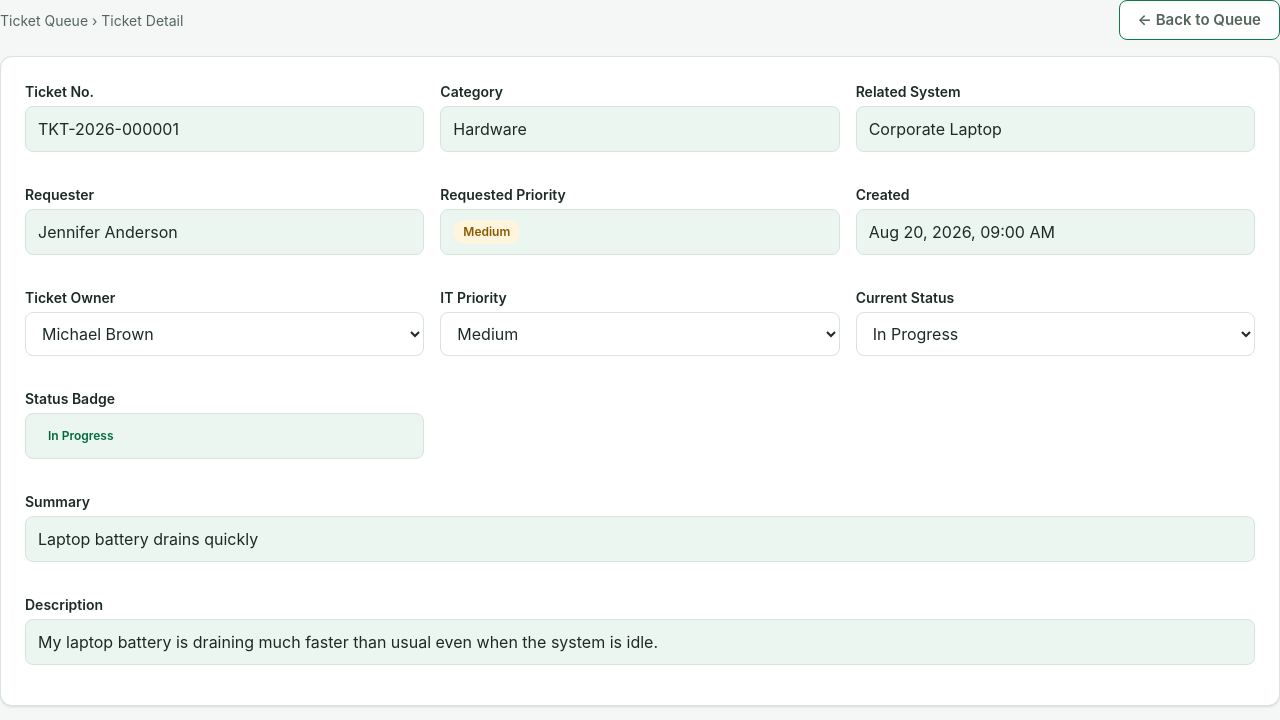
Test: Ticket workflow on the IT Staff Ticket Detail › shows the reason from the gate under the status control
Select "Move to Resolved" in the dropdown labelled "Current Status" at (1055, 334), box left=856, top=312, right=1255, bottom=356
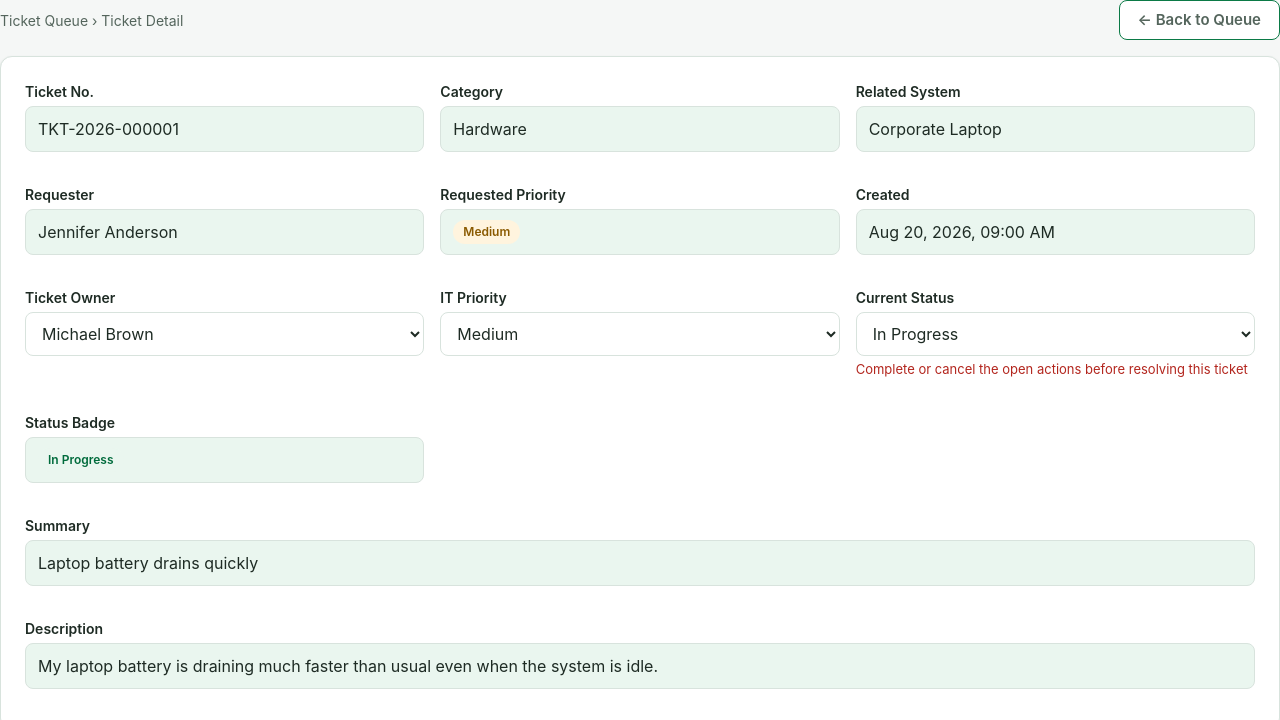
Expected: the text "Complete or cancel the open actions" is shown, left=856, top=361, right=1248, bottom=377
